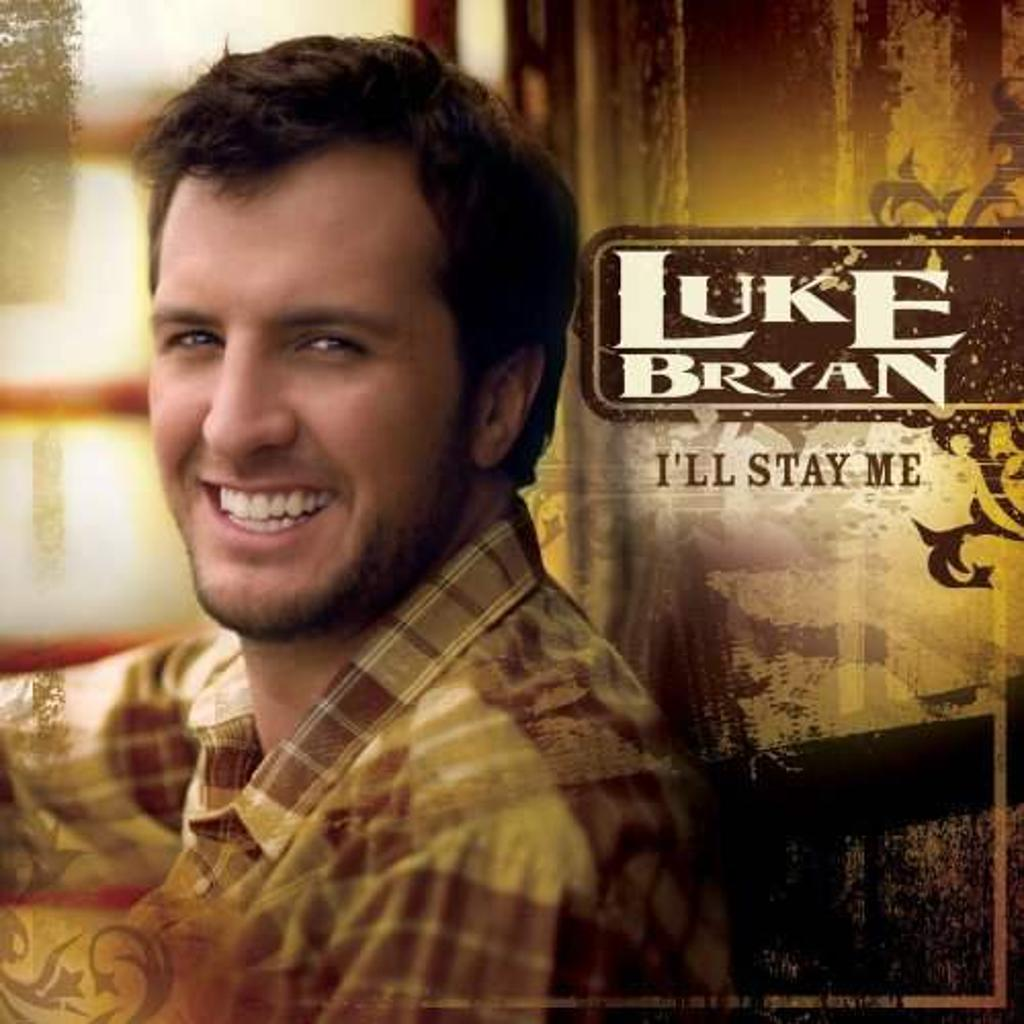face: (150, 148, 480, 634)
